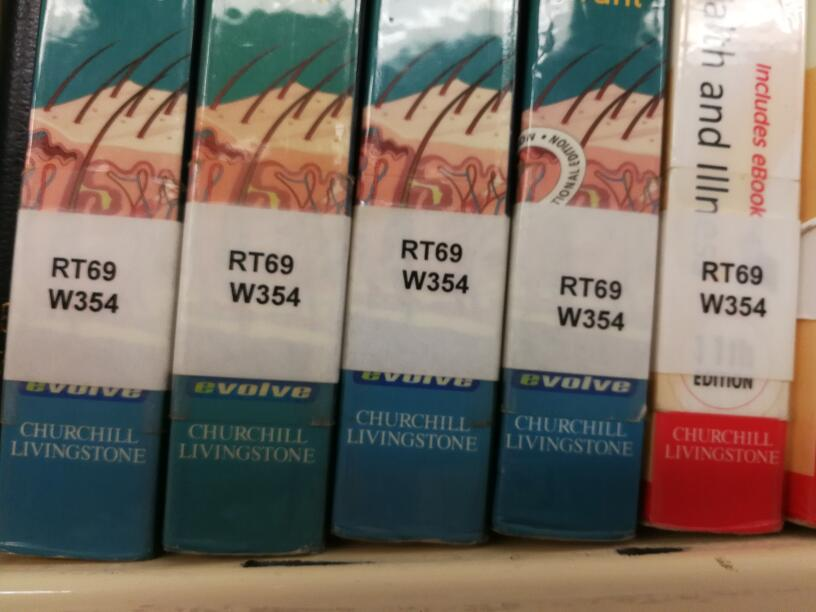booklabel: (224, 247, 302, 308), (47, 253, 121, 317), (397, 235, 471, 295), (697, 258, 768, 320), (556, 271, 626, 332)
